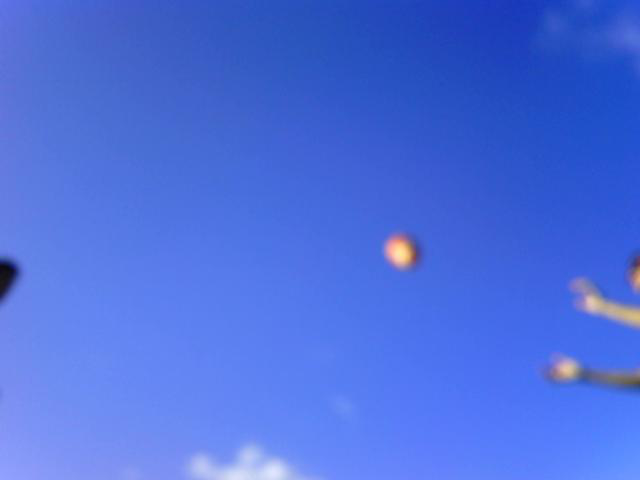football: (377, 231, 421, 273)
